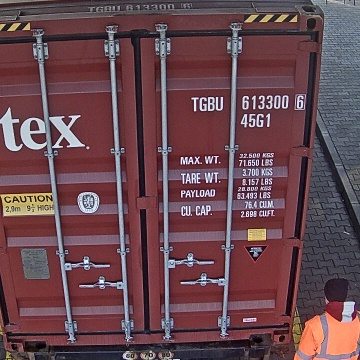serial_id: (190, 95, 304, 112)
